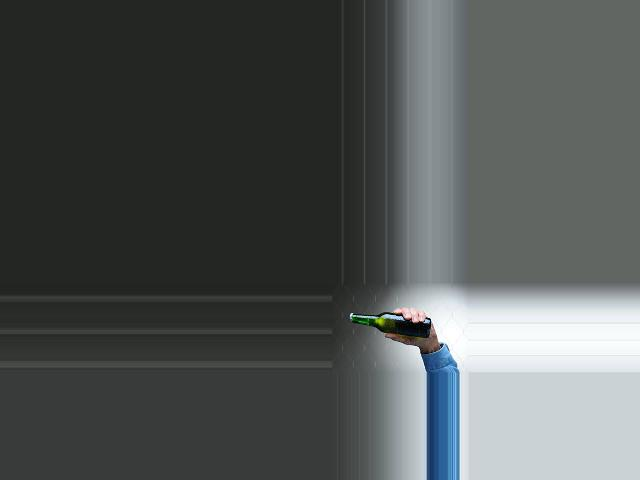beer: (348, 312, 431, 338)
